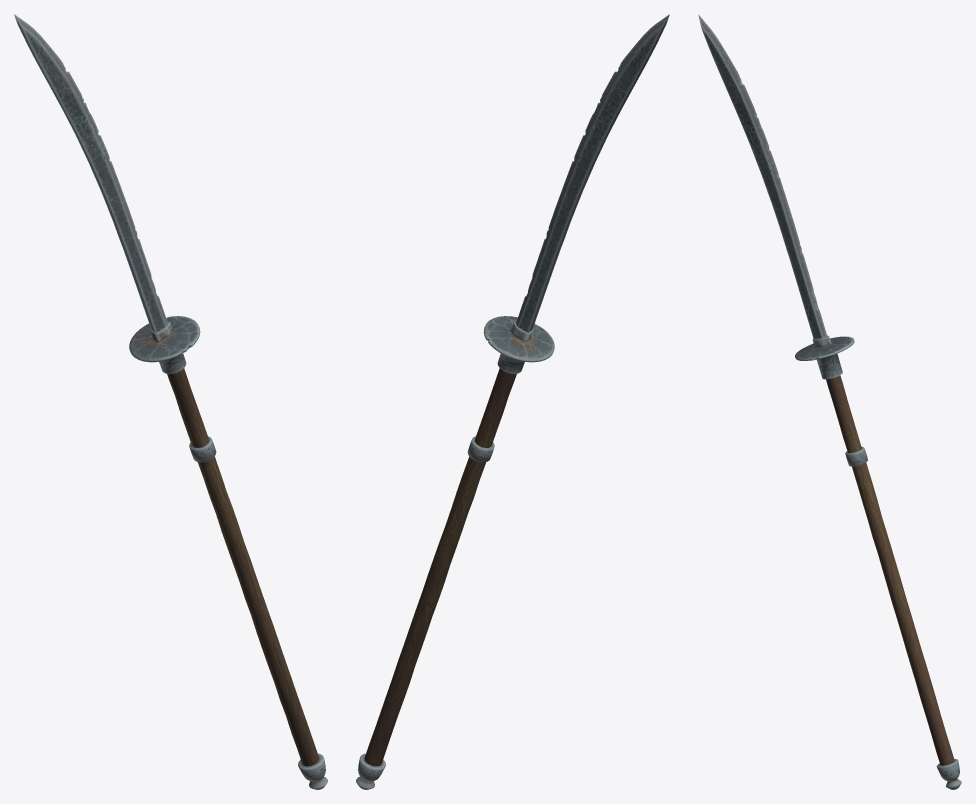
Rendered from naginata1.glb.
3 renders of one model, left to right at view 1: azimuth 30°, elevation 25°; view 2: azimuth 150°, elevation 25°; view 3: azimuth 330°, elevation 25°, orthographic. The views are drawn at different scales.
Visible parts, largest first — view 1: naginata1_common; view 2: naginata1_common; view 3: naginata1_common.
Boxes of the visible parts, x1,y1,x2,y2 form: naginata1_common: [14, 14, 327, 789]; naginata1_common: [356, 14, 669, 789]; naginata1_common: [698, 14, 961, 789].
Size of the model in its own units: 27.21 by 70.62 by 5.52.
1 material, 1 textured.
